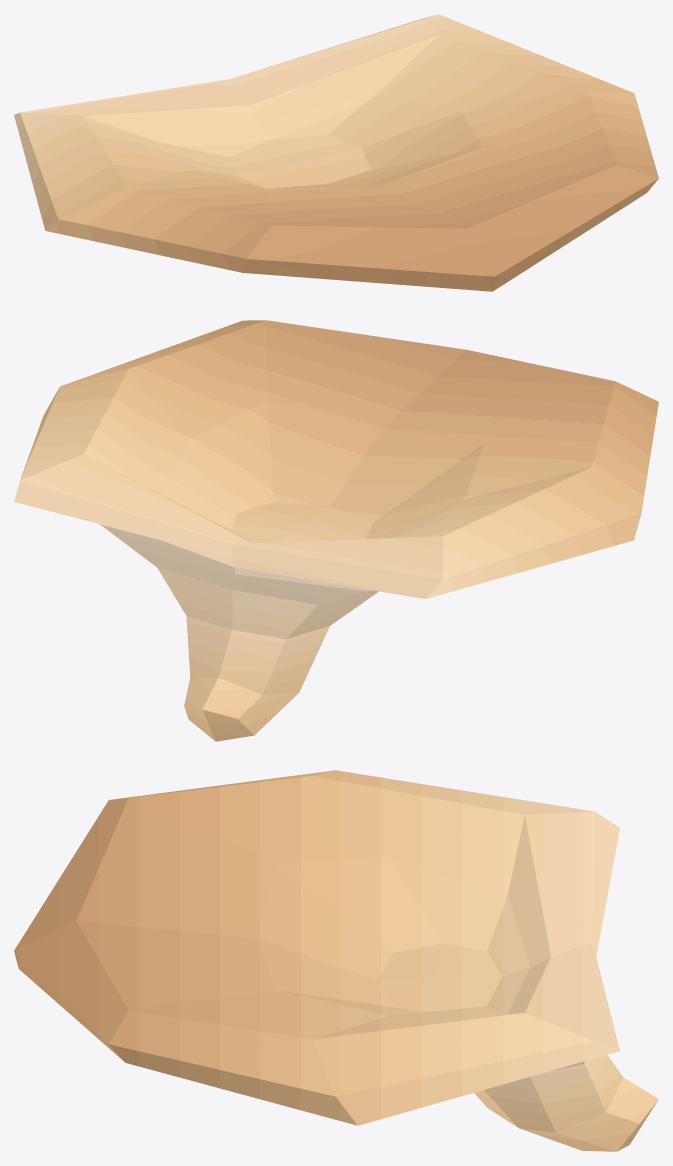
File: Oyster_Large.glb
3 renders of one model, top to bottom at view 1: azimuth 30°, elevation 25°; view 2: azimuth 150°, elevation 25°; view 3: azimuth 270°, elevation 25°, orthographic. The views are drawn at different scales.
Parts seen in each view (by area): view 1: Cube; view 2: Cube; view 3: Cube.
Boxes of the visible parts, <box> form: Cube: <box>14,14,658,291</box>; Cube: <box>14,320,658,741</box>; Cube: <box>14,770,658,1151</box>.
Bounding box in the file's own units: 10.95 × 4.24 × 9.47.
Materials: 1 (1 with a texture image).
